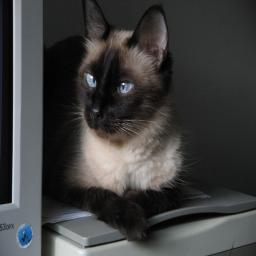catnose: (90, 104, 104, 123)
